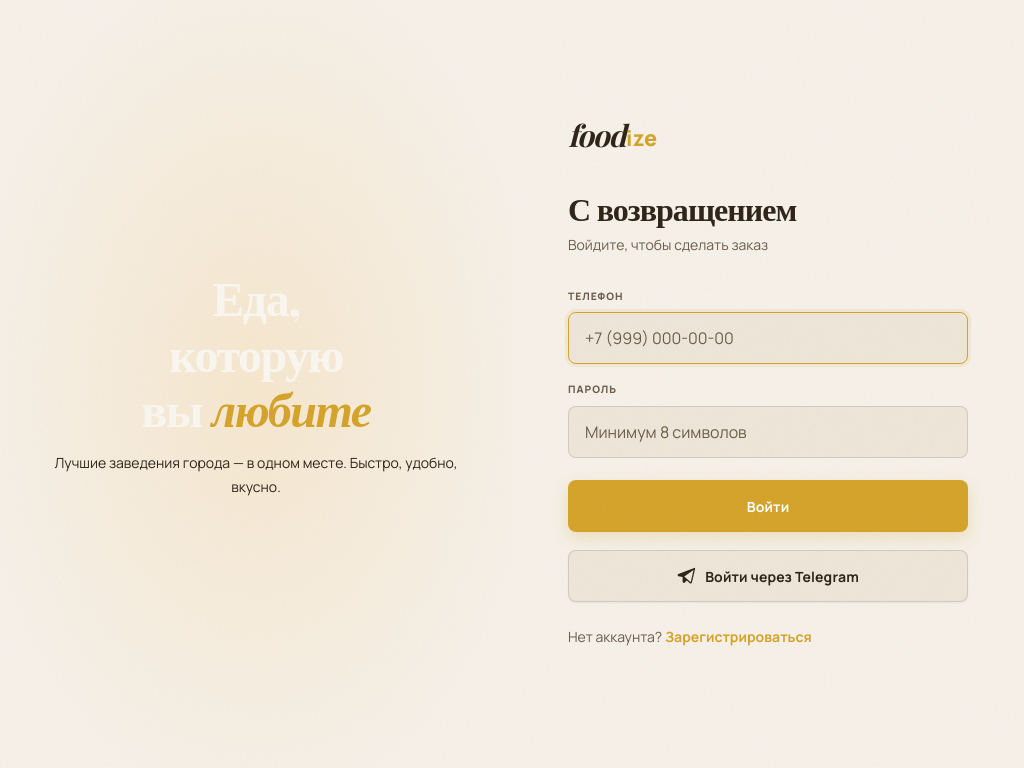
LoginPage › shows translated error message if login fails
Click the button "Войти": (768, 506) left=568, top=480, right=968, bottom=532
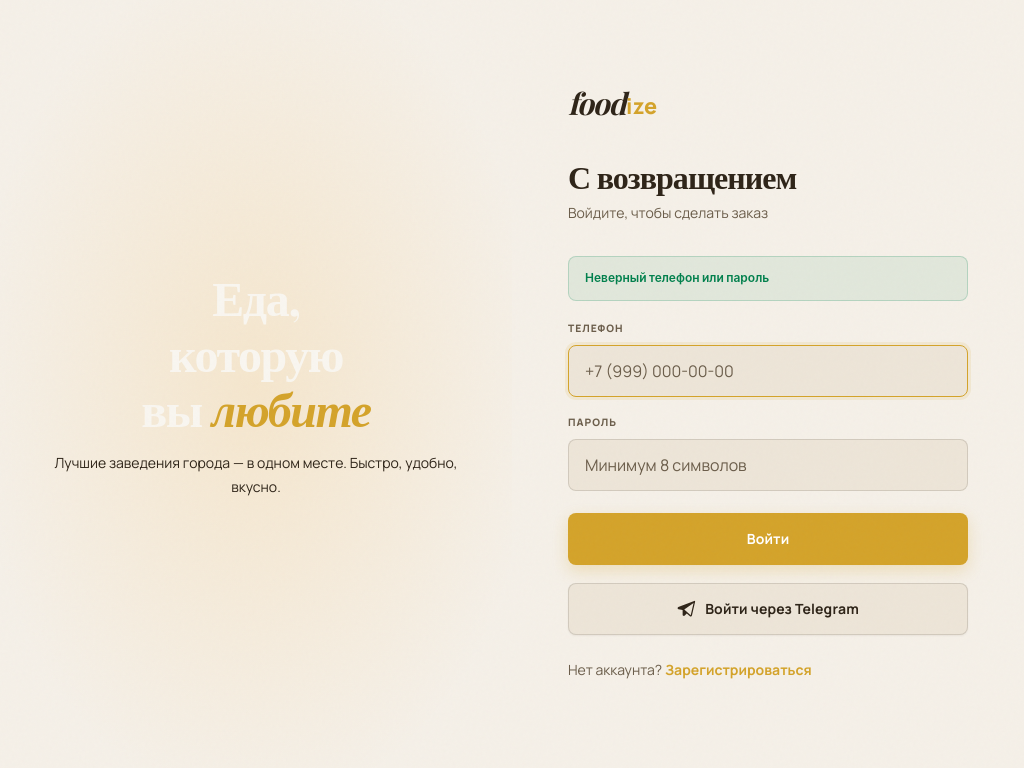
Expected: the text "Неверный телефон или пароль" is shown, left=568, top=256, right=968, bottom=301
